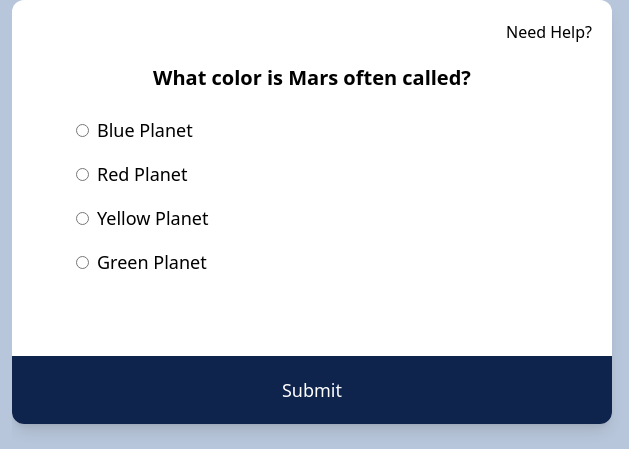
Test case: submits answer and shows next question
Click the radio button labelled "Blue Planet". click: (82, 130)
box: [76,124,89,137]
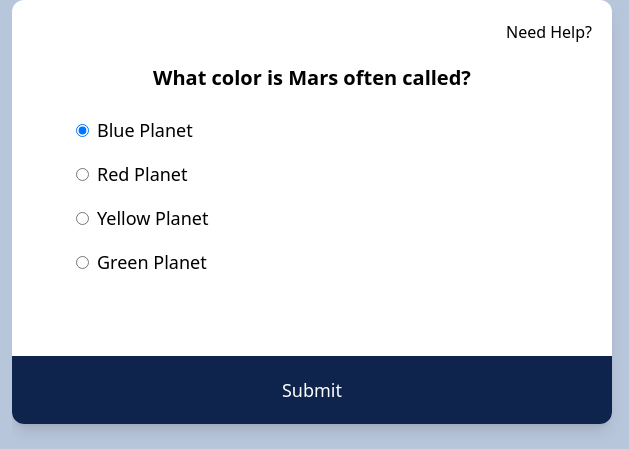
Click the button "Submit". click: (312, 390)
box: [12,356,612,424]
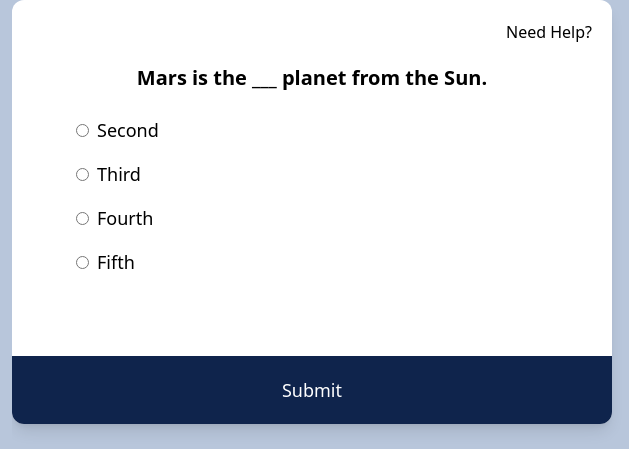
Expected: the heading "Mars is the ___ planet from the Sun." is shown, [137,64,487,91]
